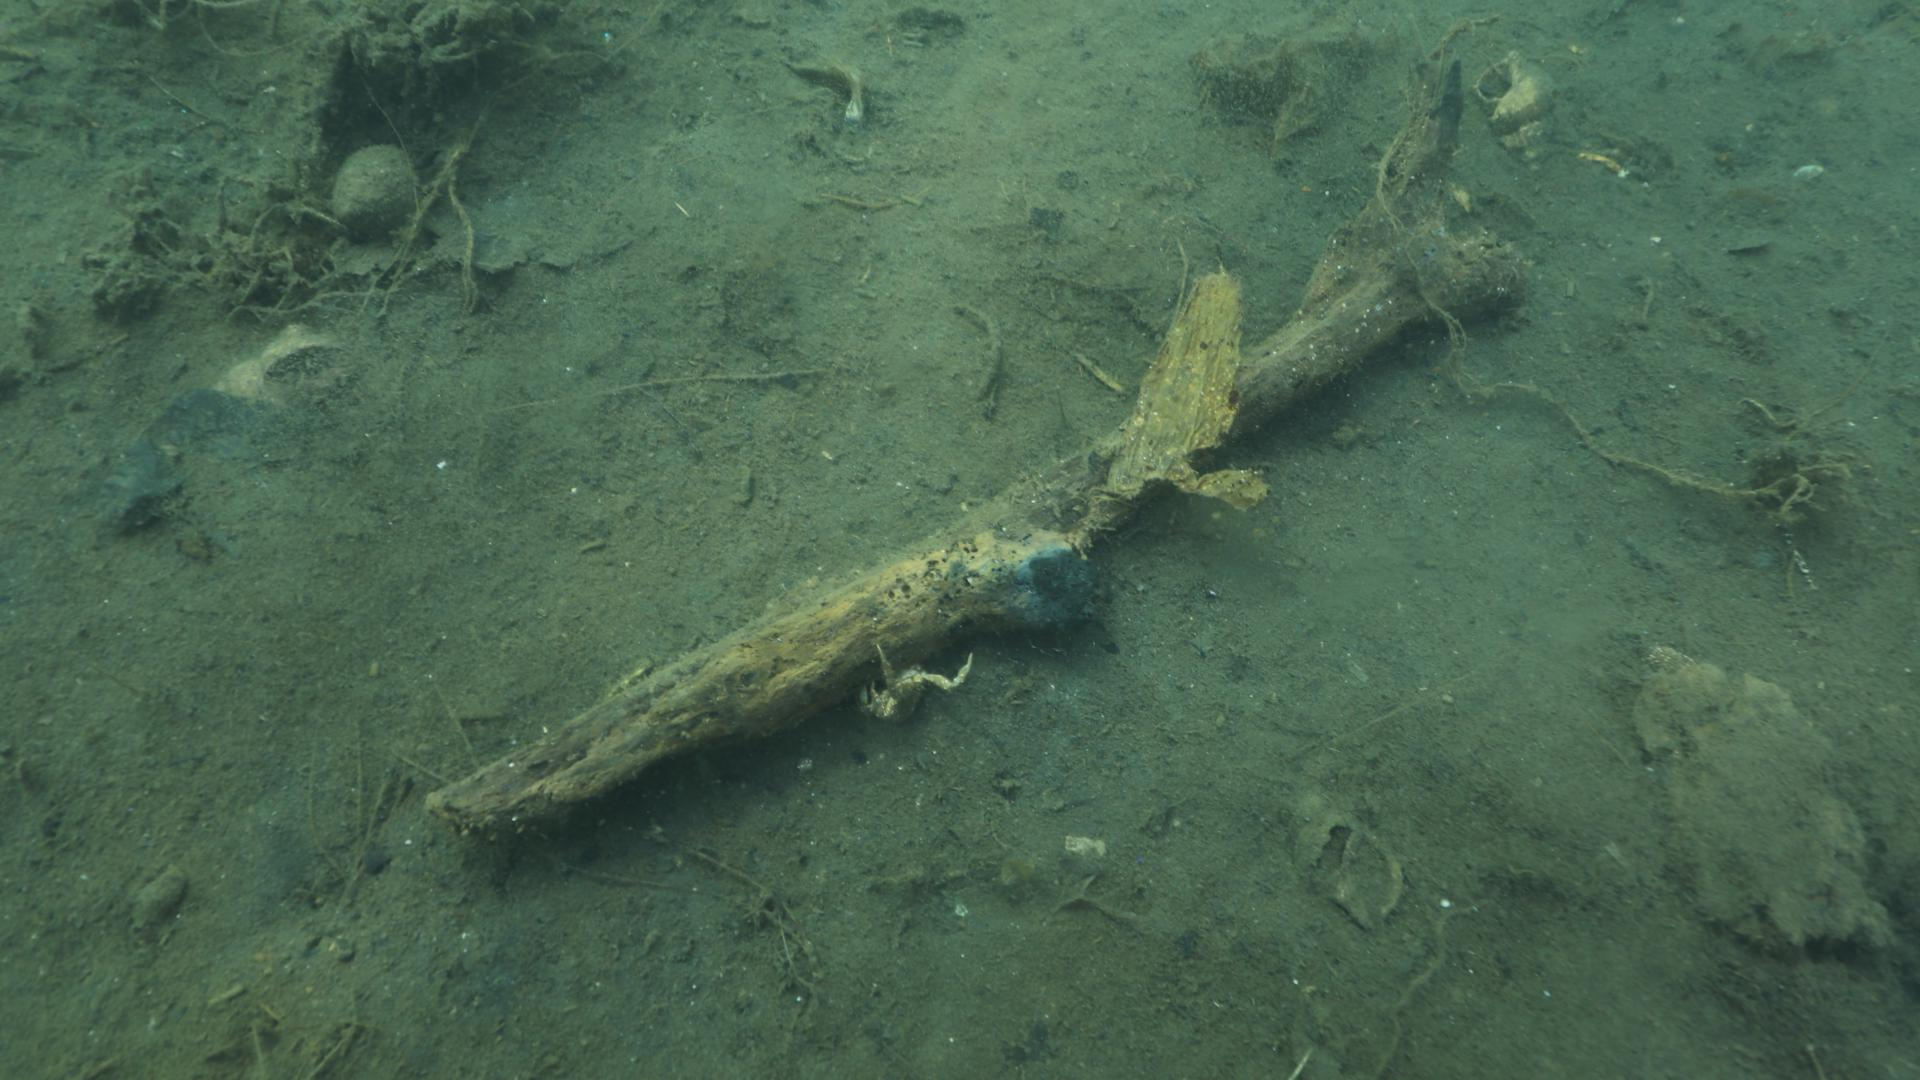wood: (422, 218, 1523, 836)
